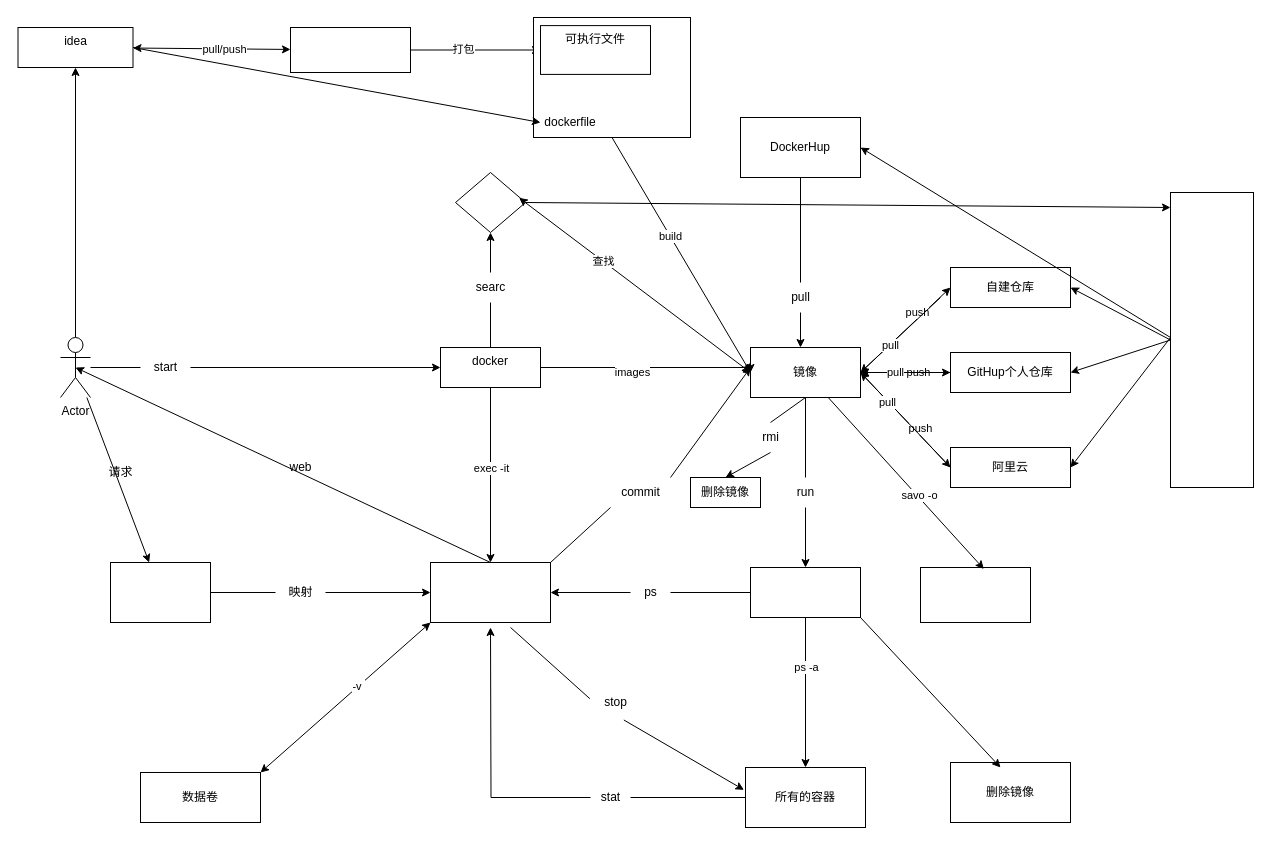
Image size: 1271x845. Some labels were removed from this diagram. Here are the shapes that lost their labels. From the top down, the centre of each, then its label:
At [350,49]: "代码仓库".
At [1212,340]: "镜像仓库".
At [160,592]: "端口".
At [490,592]: "运行容器".
At [805,592]: "容器".
At [975,594]: "二进制包".
